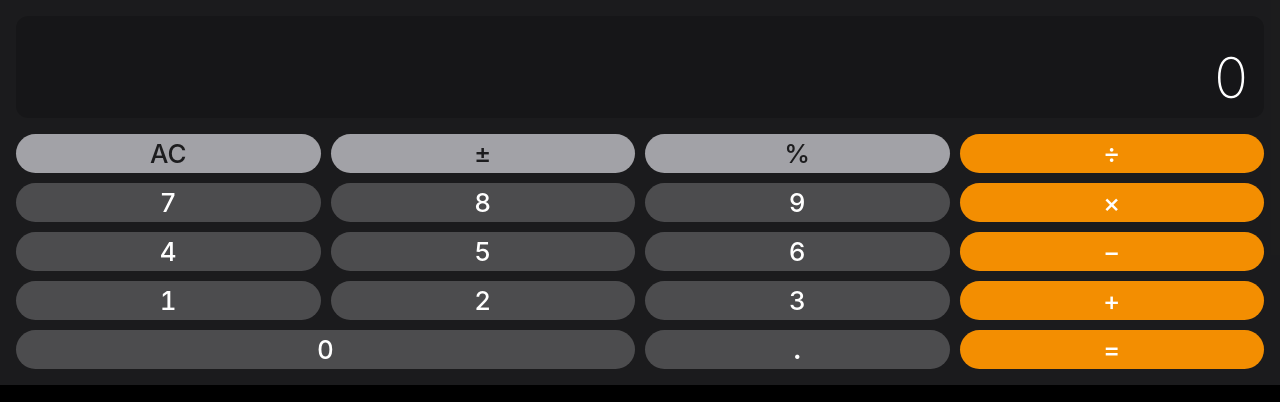
Scenario: Calculator › evaluates 6 * 7 = 42
What coordinates should you click on to do the following:
click the button "6"
I would click on:
 (797, 252)
Its box is [645, 232, 950, 271].
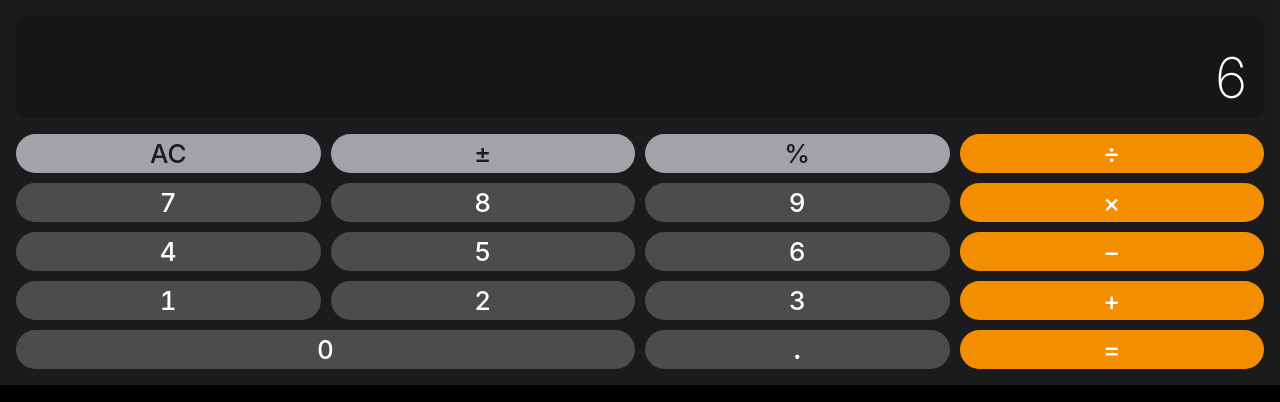
What coordinates should you click on to do the following:
click the button with test id "calculator-key-*"
I would click on:
 (1112, 202)
Its box is [960, 183, 1264, 222].
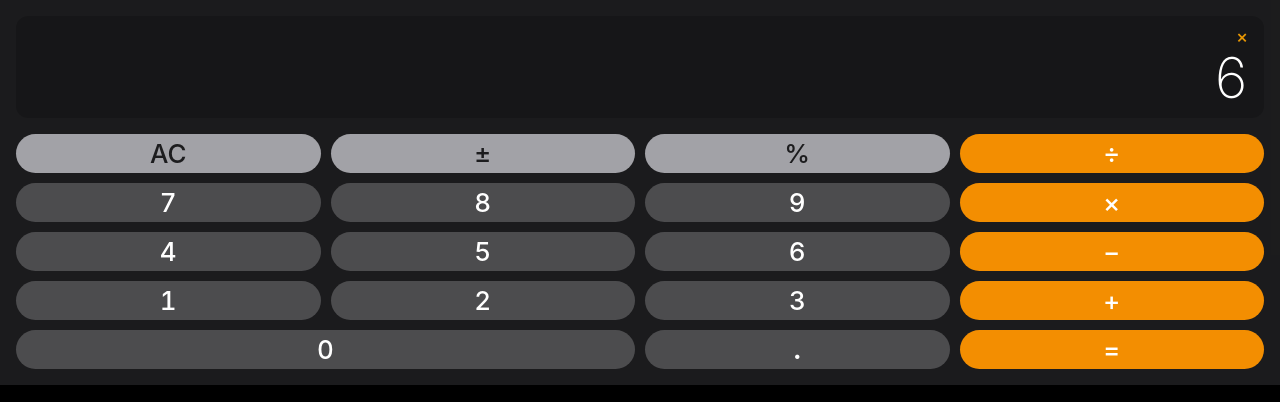
What coordinates should you click on to do the following:
click the button with test id "calculator-key-7"
I would click on:
 (168, 202)
Its box is [16, 183, 320, 222].
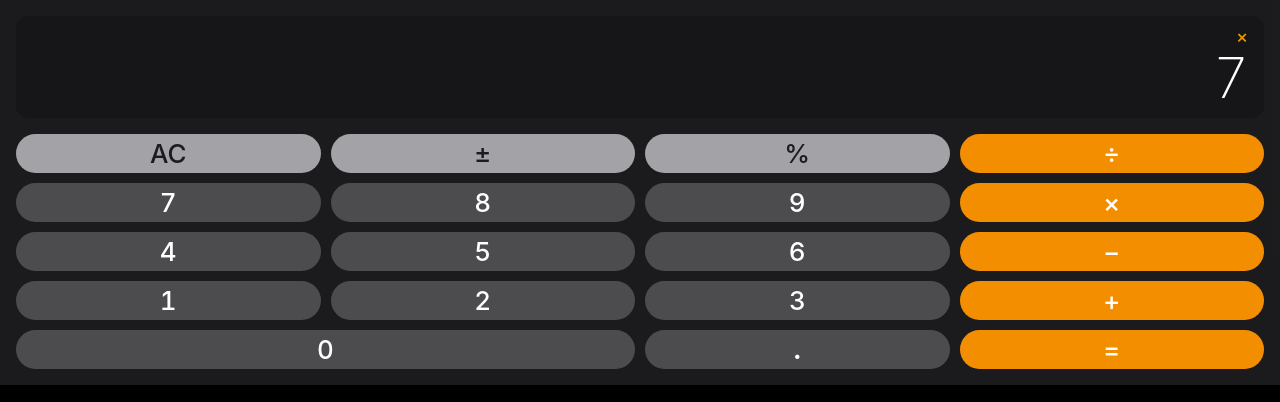
What coordinates should you click on to do the following:
click the button with test id "calculator-key-="
I would click on:
 (1112, 350)
Its box is [960, 330, 1264, 369].
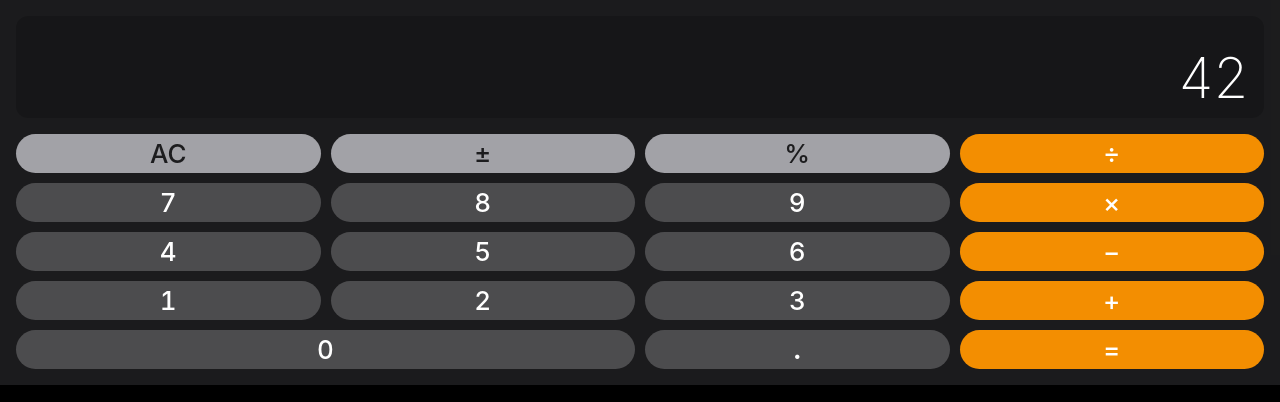
Now the text with test id "calculator-display-value" reads "42", box [1178, 44, 1248, 112]
